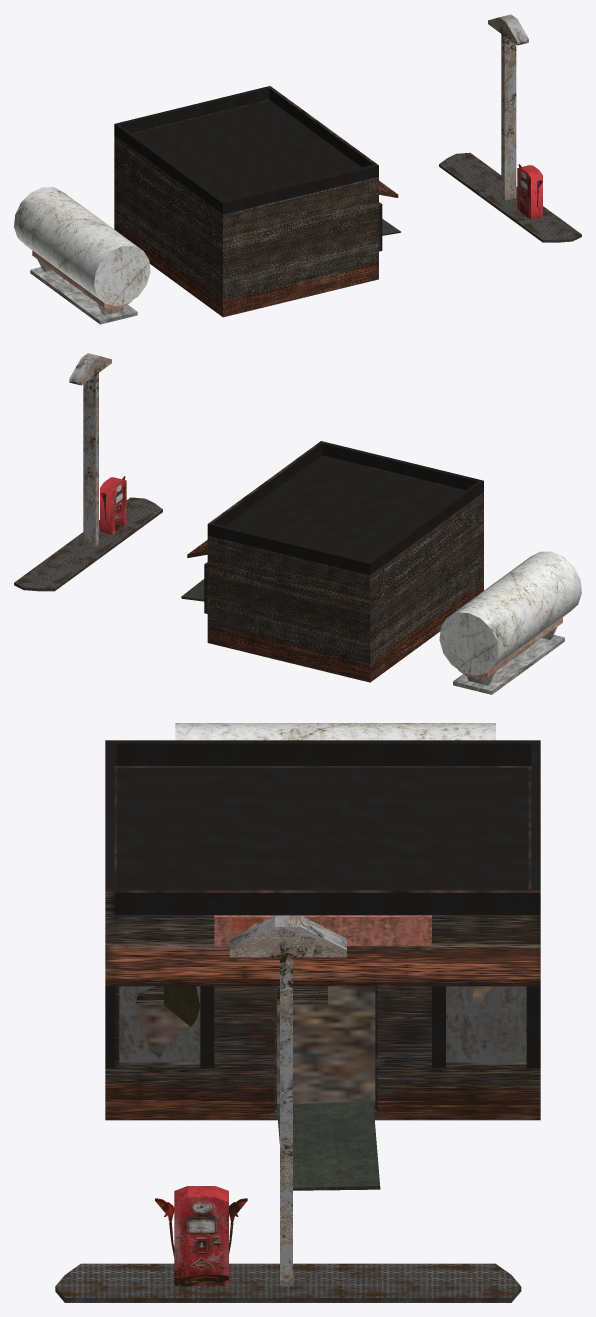
Rendered from benzinlik.fbx.
3 renders of one model, top to bottom at view 1: azimuth 30°, elevation 25°; view 2: azimuth 150°, elevation 25°; view 3: azimuth 270°, elevation 25°, orthographic. The views are drawn at different scales.
Parts seen in each view (by area): view 1: Cube.008, Cylinder.001, Cube.003, Cube.007, Cube.004; view 2: Cube.008, Cylinder.001, Cube.003, Cube.007, Cube.004; view 3: Cube.008, Cube.003, Cube.002, Cube.007, Cube.001, Cylinder.001, Cube.004, Cube.006, Cube.005.
Boxes of the visible parts, x1=… form: Cube.008: x1=114, y1=86, x2=398, y2=317; Cylinder.001: x1=14, y1=187, x2=150, y2=324; Cube.003: x1=439, y1=152, x2=581, y2=242; Cube.007: x1=488, y1=14, x2=528, y2=200; Cube.004: x1=517, y1=165, x2=542, y2=219; Cube.008: x1=187, y1=441, x2=483, y2=682; Cylinder.001: x1=439, y1=551, x2=581, y2=694; Cube.003: x1=14, y1=497, x2=162, y2=591; Cube.007: x1=69, y1=353, x2=111, y2=546; Cube.004: x1=100, y1=477, x2=126, y2=534; Cube.008: x1=105, y1=740, x2=540, y2=1120; Cube.003: x1=55, y1=1263, x2=521, y2=1302; Cube.002: x1=119, y1=986, x2=526, y2=1062; Cube.007: x1=229, y1=915, x2=346, y2=1286; Cube.001: x1=277, y1=1102, x2=380, y2=1190; Cylinder.001: x1=175, y1=723, x2=495, y2=740; Cube.004: x1=174, y1=1186, x2=228, y2=1286; Cube.006: x1=214, y1=915, x2=431, y2=945; Cube.005: x1=164, y1=986, x2=200, y2=1026.
Bounding box in the file's own units: 5182 × 2022 × 2368.
Materials: 10 (10 with a texture image).
